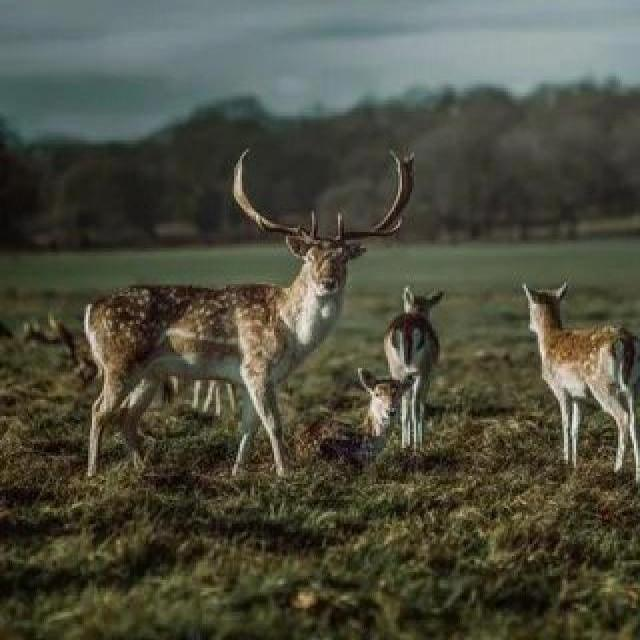deer: (56, 163, 380, 533), (498, 252, 640, 500), (326, 243, 474, 473)
